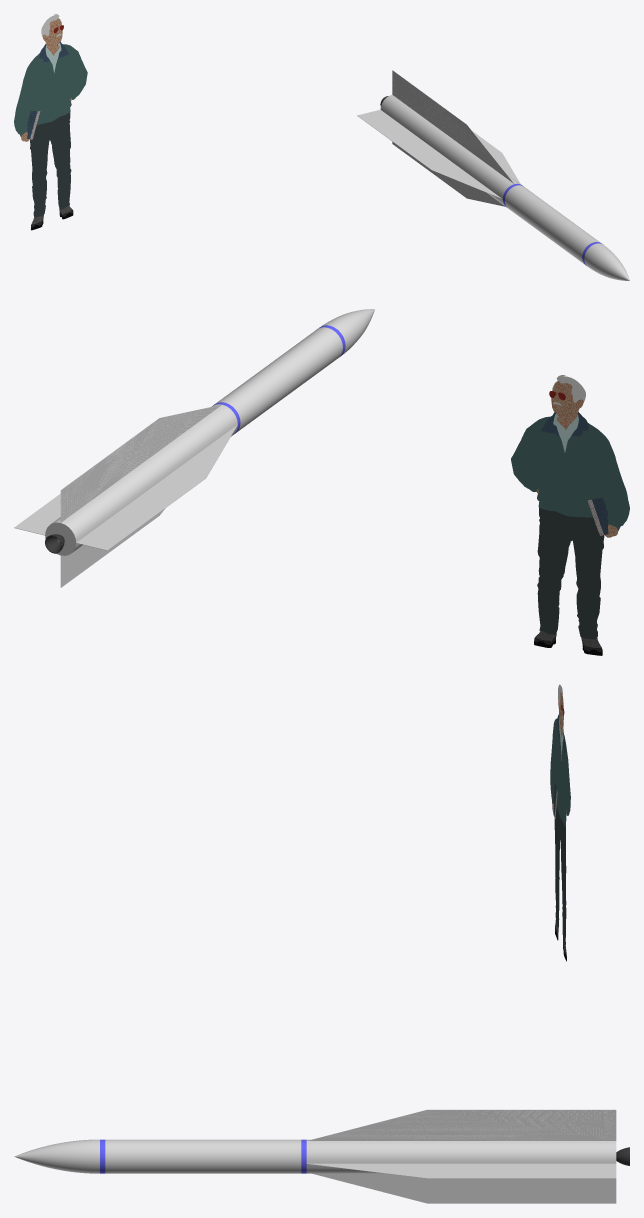
3 views of the same model, one above another, from view 1: azimuth 30°, elevation 25°; view 2: azimuth 150°, elevation 25°; view 3: azimuth 270°, elevation 25° (orthographic). The views are drawn at different scales.
Visible parts, largest first — view 1: SketchUp (×4), Steve (×3); view 2: SketchUp (×4), Steve (×3); view 3: SketchUp (×4), Steve (×2).
Boxes of the visible parts, x1,y1,x2,y2 form: SketchUp (×4): (357,70,629,280); Steve (×3): (14,18,87,217); SketchUp (×4): (14,309,374,587); Steve (×3): (511,381,629,639); SketchUp (×4): (14,1109,616,1203); Steve (×2): (550,718,570,944).
Size of the model in its own units: 147 by 141 by 74.58.
